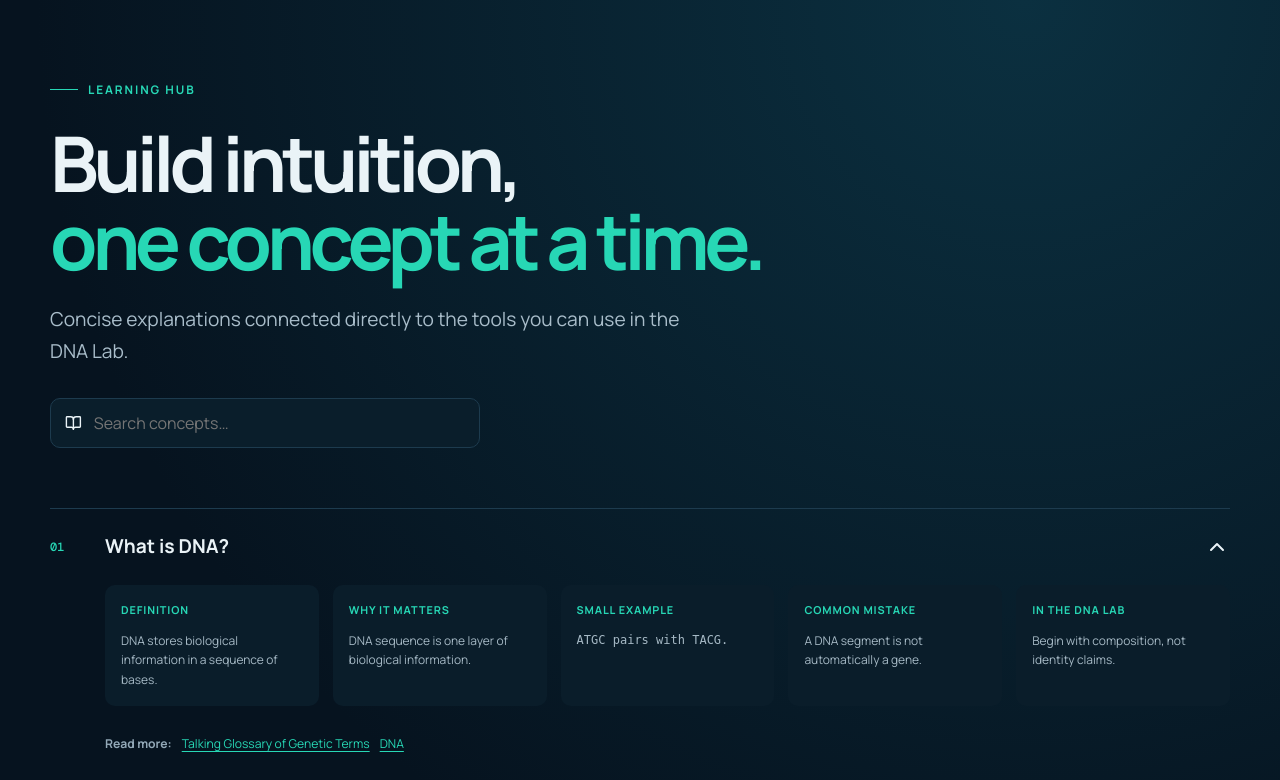
Test: expands and collapses lesson cards with a pointer
Click the button "Definition". click: (212, 645)
box: 106,586 -> 318,705
(page scrolled)
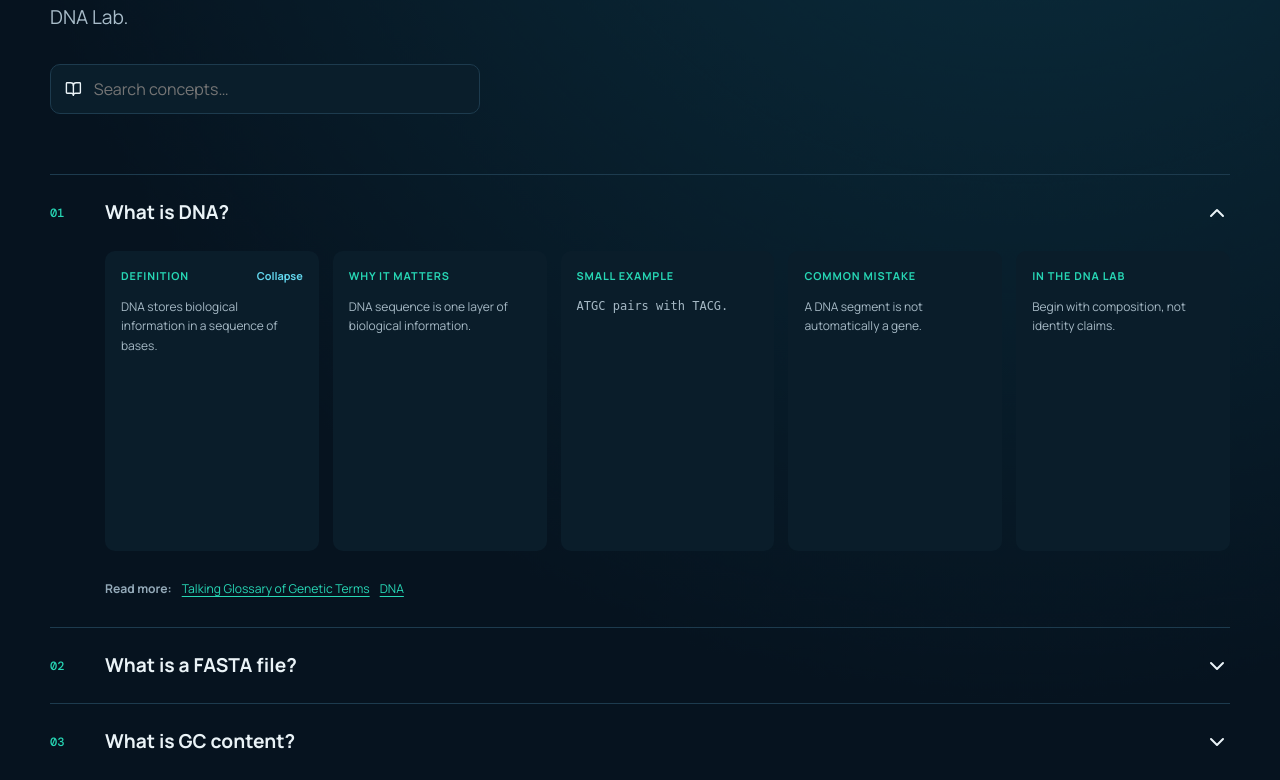
Expected: the button "Definition" is expanded
Click the button "Definition". click: (212, 401)
box: 106,252 -> 318,550
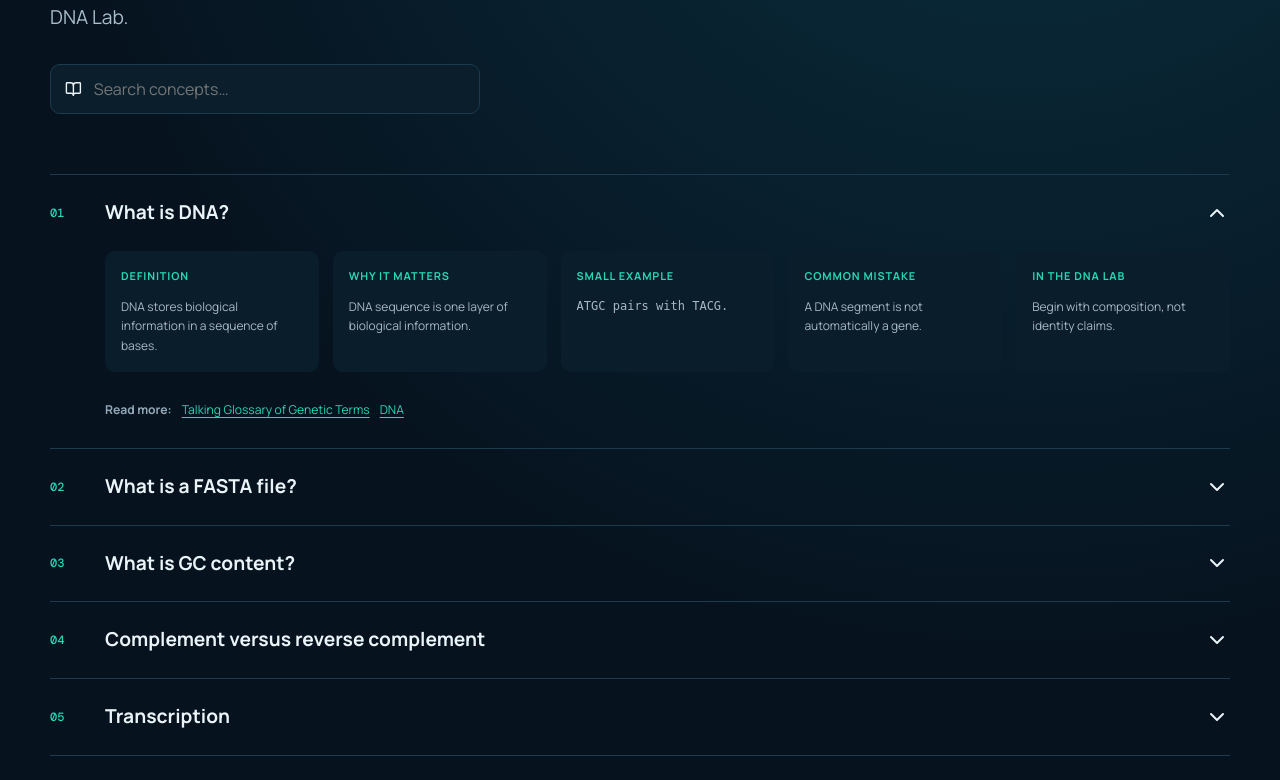
Expected: the button "Definition" is collapsed, 106,252 -> 318,371
